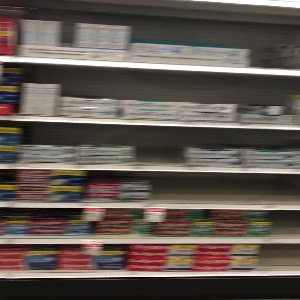void: (151, 171, 300, 202), (251, 6, 300, 71), (134, 123, 186, 168), (259, 243, 300, 276), (271, 208, 299, 239)
